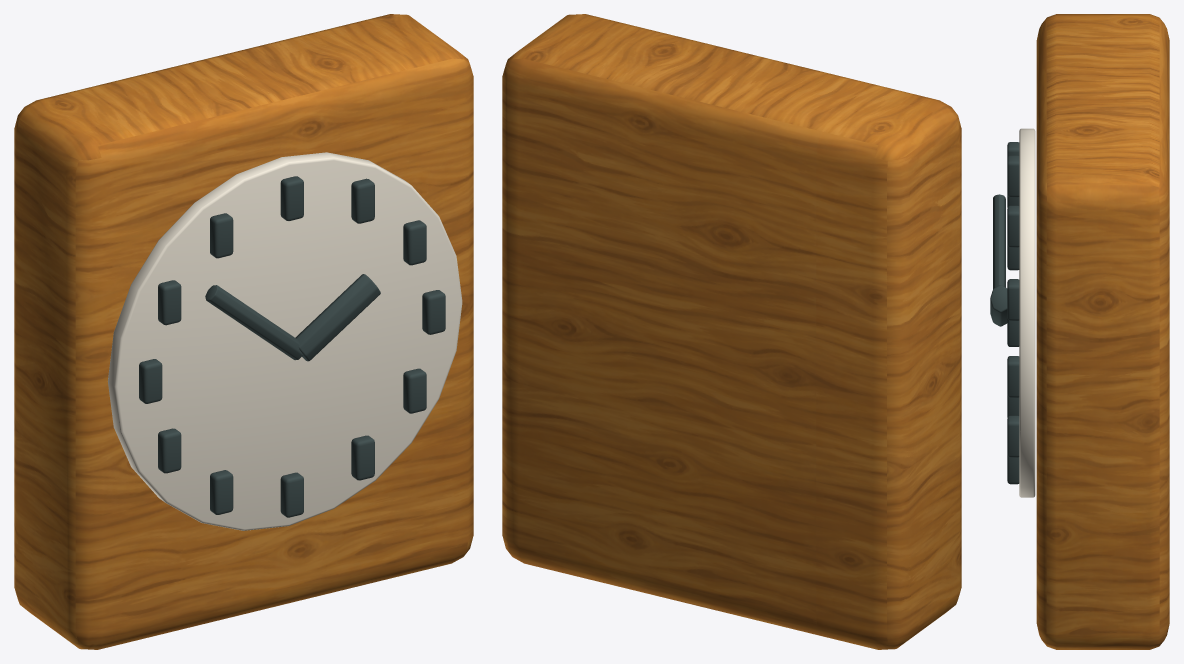
The model's file is mantel-clock.glb.
3 views of the same model, side by side, from view 1: azimuth 30°, elevation 25°; view 2: azimuth 150°, elevation 25°; view 3: azimuth 270°, elevation 25° (orthographic). The views are drawn at different scales.
Parts seen in each view (by area): view 1: mantel-clock; view 2: mantel-clock; view 3: mantel-clock.
Boxes of the visible parts, x1,y1,x2,y2 form: mantel-clock: (14, 14, 473, 649); mantel-clock: (502, 14, 961, 649); mantel-clock: (990, 14, 1169, 649).
Size of the model in its own units: 0.24 by 0.29 by 0.1.
Materials: 3 (1 with a texture image).
